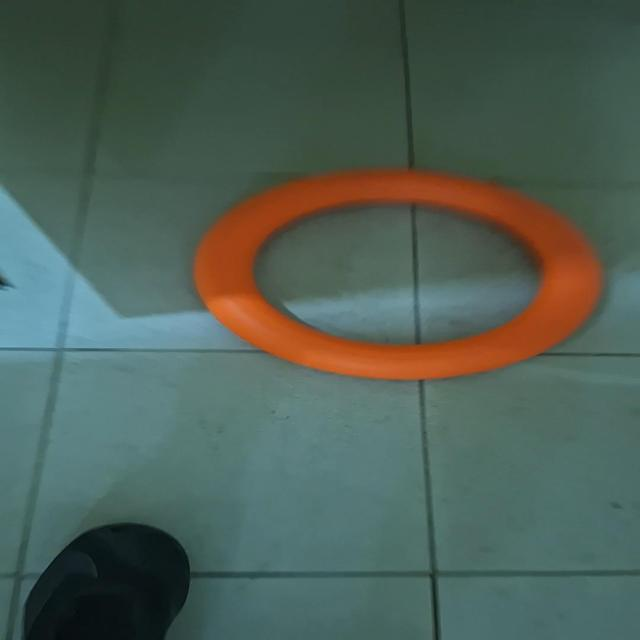note: (191, 166, 604, 382)
